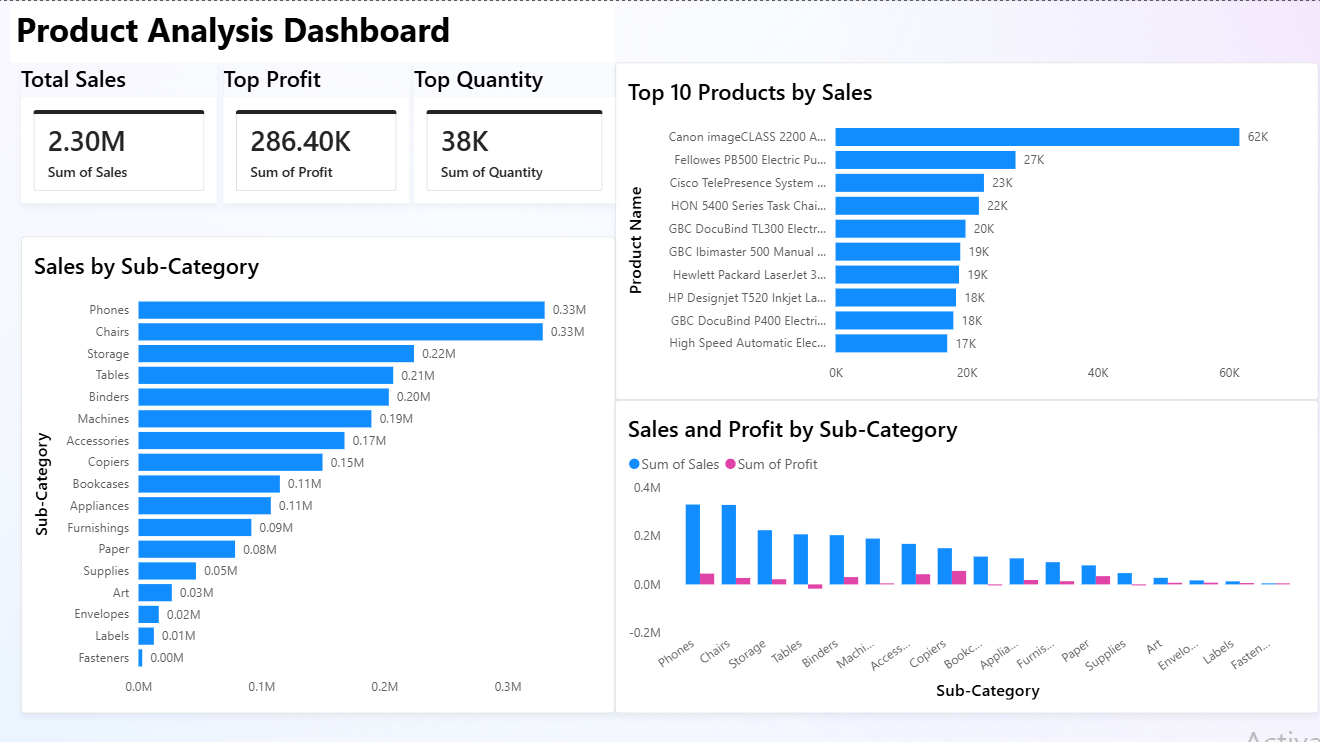

The dashboard page shown, as its layout file describes it:
{"tool":"powerbi","page":{"name":"Product Analysis","canvas":[1280,720],"ordinal":1},"visuals":[{"type":"textbox","box":[10.2,0,586.6,59.7],"z":0},{"type":"clusteredBarChart","title":"Top 10 Products by Sales","fields":{"Category":["Sample - Superstore.Product Name"],"Y":["Sum(Sample - Superstore.Sales)"]},"box":[596.8,59.7,682.7,327.5],"z":1000},{"type":"clusteredBarChart","title":"Sales by Sub-Category","fields":{"Category":["Sample - Superstore.Sub-Category"],"Y":["Sum(Sample - Superstore.Sales)"]},"box":[20.4,228.5,576.4,462.9],"z":2000},{"type":"clusteredColumnChart","title":"Sales and Profit by Sub-Category","fields":{"Category":["Sample - Superstore.Sub-Category"],"Y":["Sum(Sample - Superstore.Sales)","Sum(Sample - Superstore.Profit)"]},"box":[596.8,387.2,682.7,304.2],"z":3000},{"type":"cardVisual","title":"Total Sales","fields":{"Data":["Sum(Sample - Superstore.Sales)"]},"box":[20.4,59.7,190.7,136.8],"z":4000},{"type":"cardVisual","title":"Top Profit","fields":{"Data":["Sum(Sample - Superstore.Profit)"]},"box":[216.2,59.7,180.5,136.8],"z":5000},{"type":"cardVisual","title":"Top Quantity","fields":{"Data":["Sum(Sample - Superstore.Quantity)"]},"box":[401.7,59.7,195,136.8],"z":6000}]}

Visuals, with their boxes in screenshot pixels (x1, y1, x2, y2), scaled from the page's 1280x720 canvas onto the 1320x742 screenshot:
textbox: locate(11, 0, 615, 62)
"Top 10 Products by Sales" clusteredBarChart: locate(615, 62, 1319, 399)
"Sales by Sub-Category" clusteredBarChart: locate(21, 235, 615, 713)
"Sales and Profit by Sub-Category" clusteredColumnChart: locate(615, 399, 1319, 713)
"Total Sales" cardVisual: locate(21, 62, 218, 203)
"Top Profit" cardVisual: locate(223, 62, 409, 203)
"Top Quantity" cardVisual: locate(414, 62, 615, 203)
